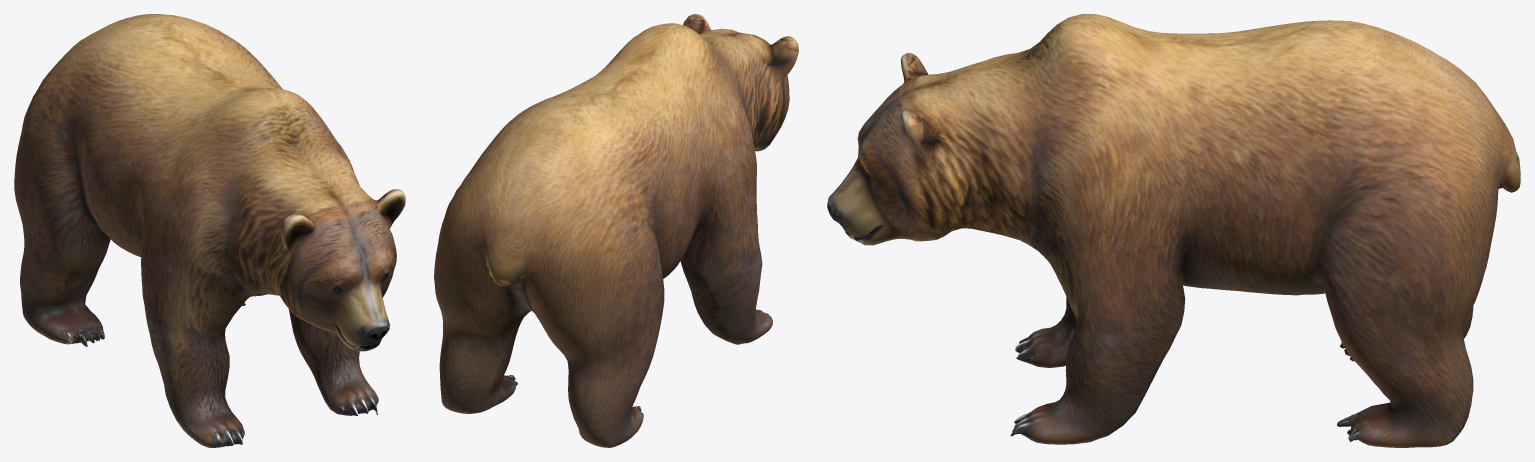
The model's file is bear.glb.
3 views of the same model, side by side, from view 1: azimuth 30°, elevation 25°; view 2: azimuth 150°, elevation 25°; view 3: azimuth 270°, elevation 25° (orthographic). The views are drawn at different scales.
Parts seen in each view (by area): view 1: MeshyFit; view 2: MeshyFit; view 3: MeshyFit.
Boxes of the visible parts, bbox=[...] form: MeshyFit: bbox=[14, 14, 405, 447]; MeshyFit: bbox=[434, 14, 798, 447]; MeshyFit: bbox=[827, 14, 1520, 447].
Size of the model in its own units: 0.899 by 1.3 by 2.17.
1 material, 1 textured.
